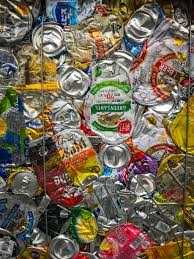metal: (117, 1, 170, 44), (56, 203, 102, 245), (30, 19, 74, 60), (52, 61, 97, 100), (96, 133, 136, 176), (6, 167, 43, 202), (45, 227, 82, 259)
plastic: (50, 125, 101, 183)
